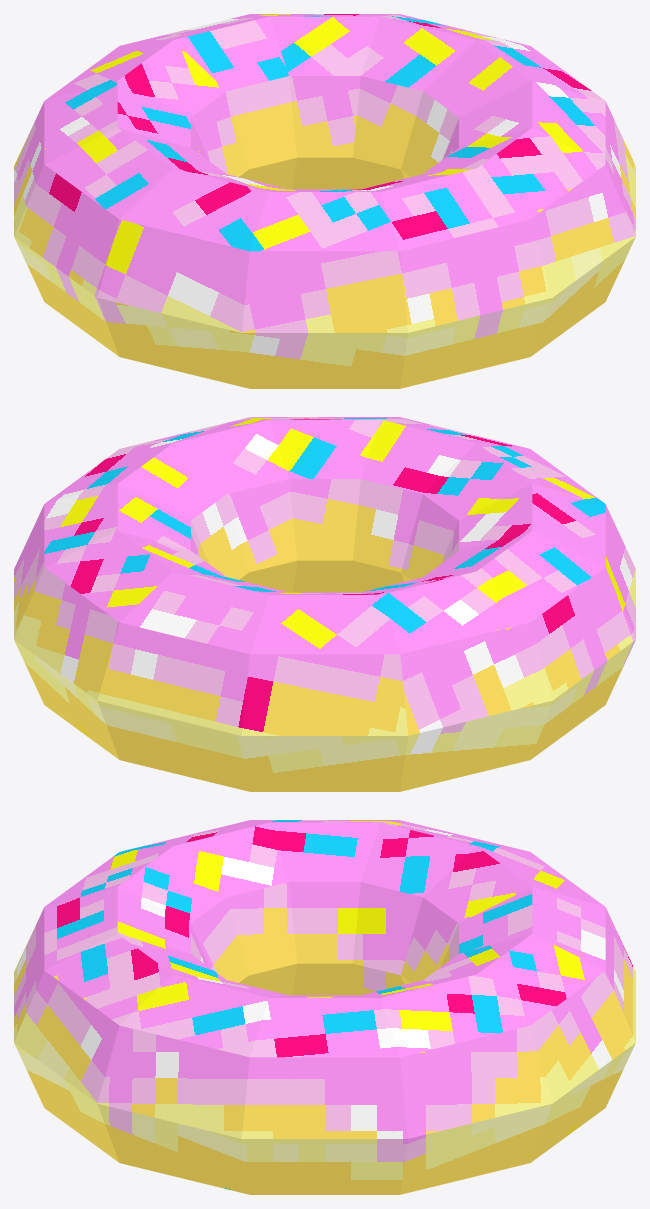
File: dona.glb
3 renders of one model, top to bottom at view 1: azimuth 30°, elevation 25°; view 2: azimuth 150°, elevation 25°; view 3: azimuth 270°, elevation 25°, orthographic.
Visible parts, largest first — view 1: torus; view 2: torus; view 3: torus.
Part boxes in pixels (x1,y1,x2,y2): torus: [14, 14, 635, 388]; torus: [14, 417, 635, 791]; torus: [14, 820, 635, 1194].
Bounding box in the file's own units: 1.5 × 0.5176 × 1.5.
Materials: 1 (1 with a texture image).
